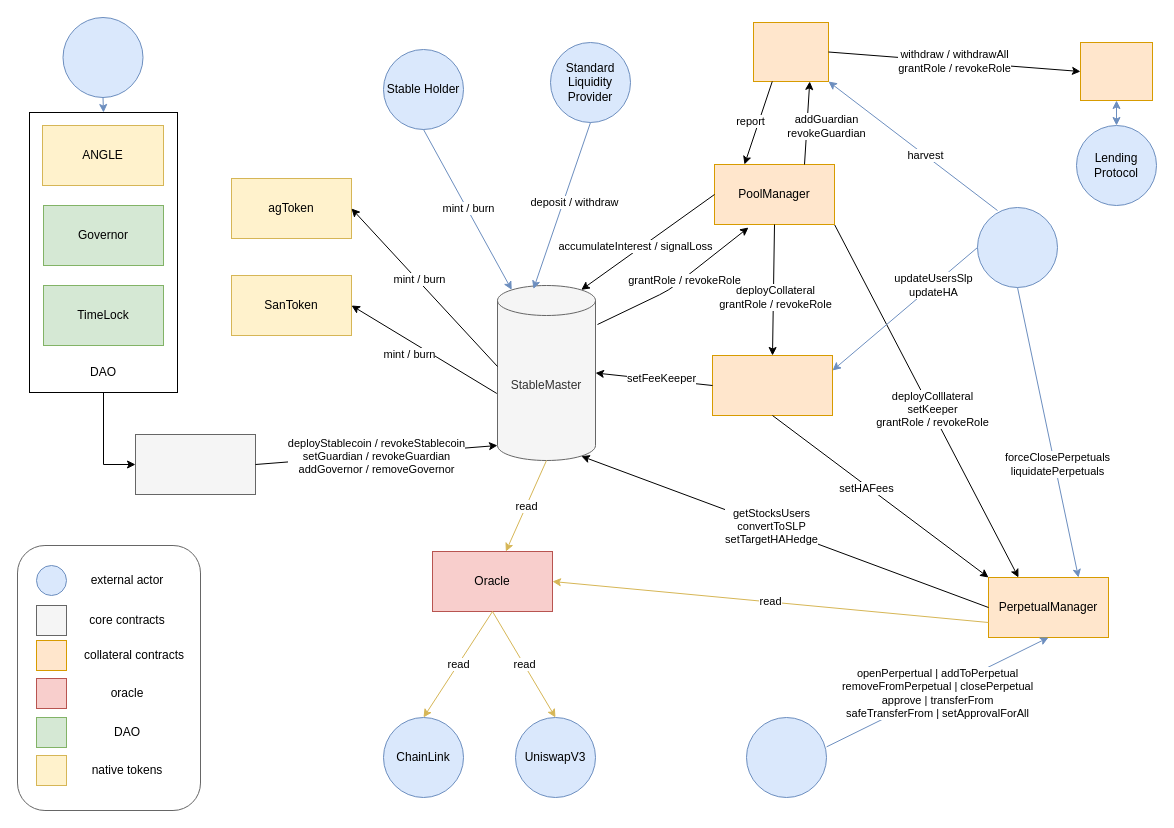
Image size: 1174x828. Some labels were removed from this diagram. The centre of each missing label's shape, as x and y in pixels:
Core: the point at 195,464
FeeManager: the point at 772,385
Hedging Agent: the point at 786,757
Keepers: the point at 1017,247
Lender: the point at 1116,71
Strategy: the point at 790,52
Voters: the point at 102,57
